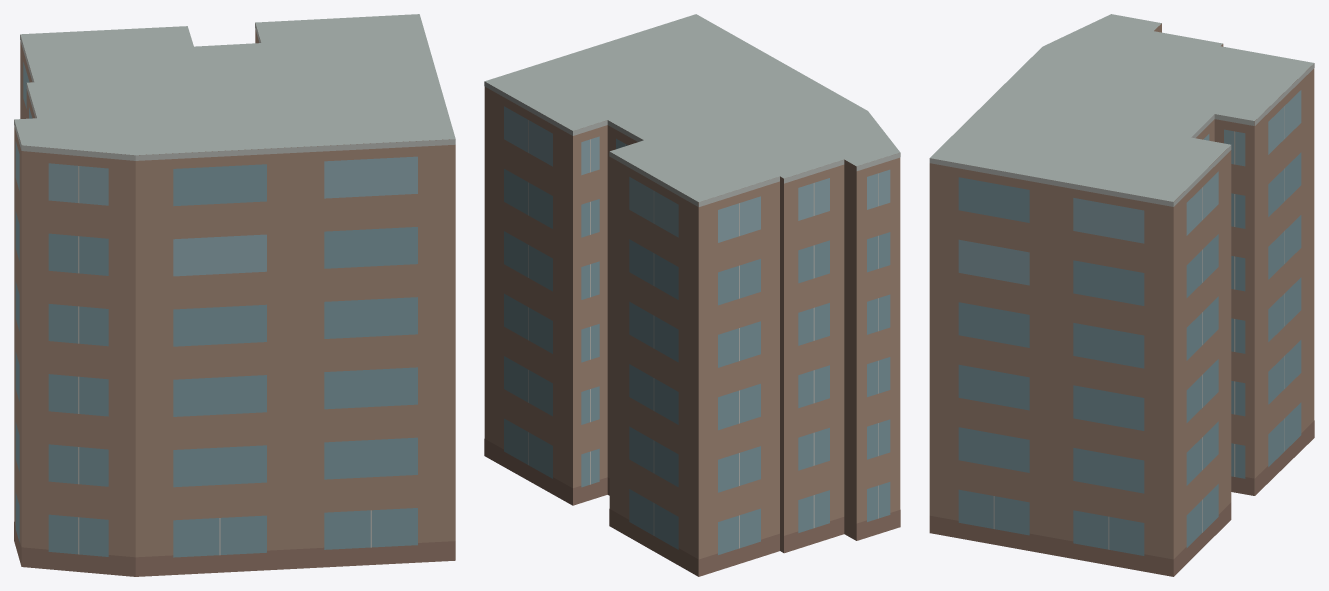
The model's file is survey-upis-32847900.glb.
The picture shows the model from 3 angles, left to right: view 1: azimuth 30°, elevation 25°; view 2: azimuth 150°, elevation 25°; view 3: azimuth 270°, elevation 25°; orthographic projection. The views are drawn at different scales.
Parts seen in each view (by area): view 1: survey-upis-32847900.tmp; view 2: survey-upis-32847900.tmp; view 3: survey-upis-32847900.tmp.
Boxes of the visible parts, left/top/right/bottom form: survey-upis-32847900.tmp: left=14, top=14, right=455, bottom=576; survey-upis-32847900.tmp: left=484, top=14, right=900, bottom=576; survey-upis-32847900.tmp: left=929, top=14, right=1314, bottom=576.
Bounding box in the file's own units: 19.52 × 18.15 × 16.89.
